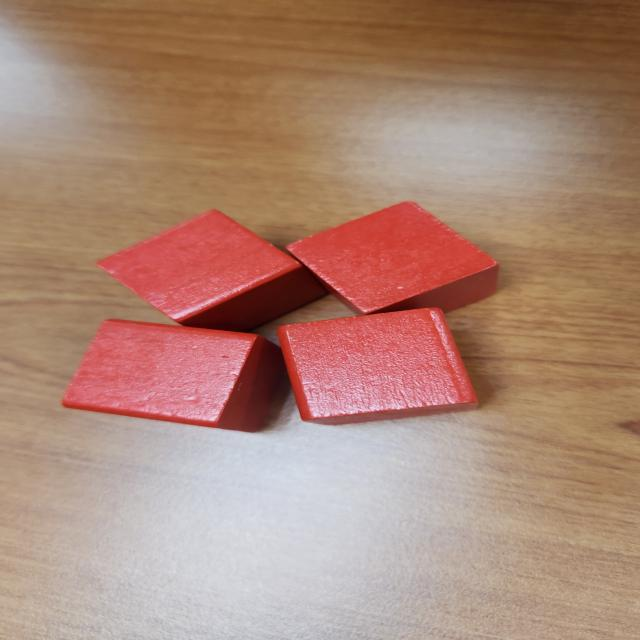red: (97, 209, 333, 333), (62, 318, 284, 434), (284, 198, 500, 316), (275, 306, 480, 426)
